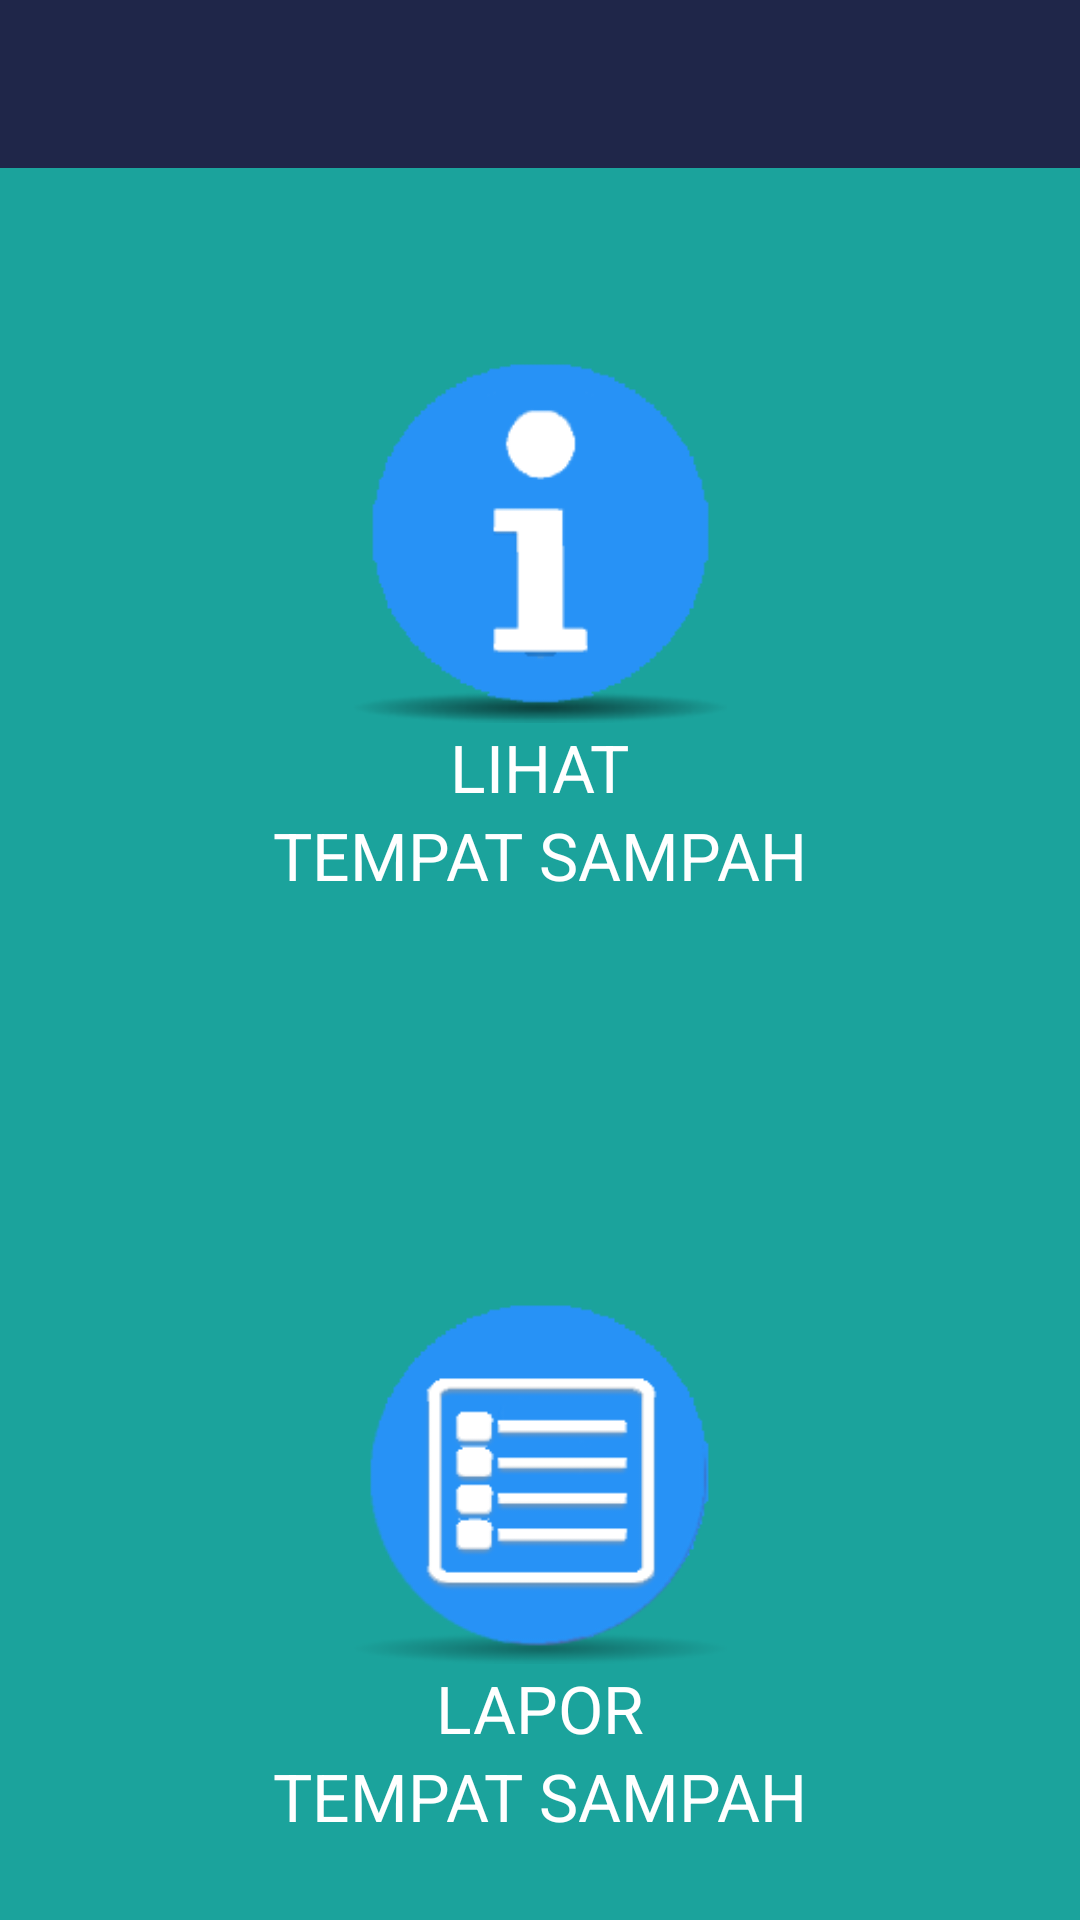

Icons on this 1080*1920 Android screen, each with its box as [x1, y1, x2, y2]:
info: [372, 364, 709, 720]
list: [370, 1305, 709, 1658]
